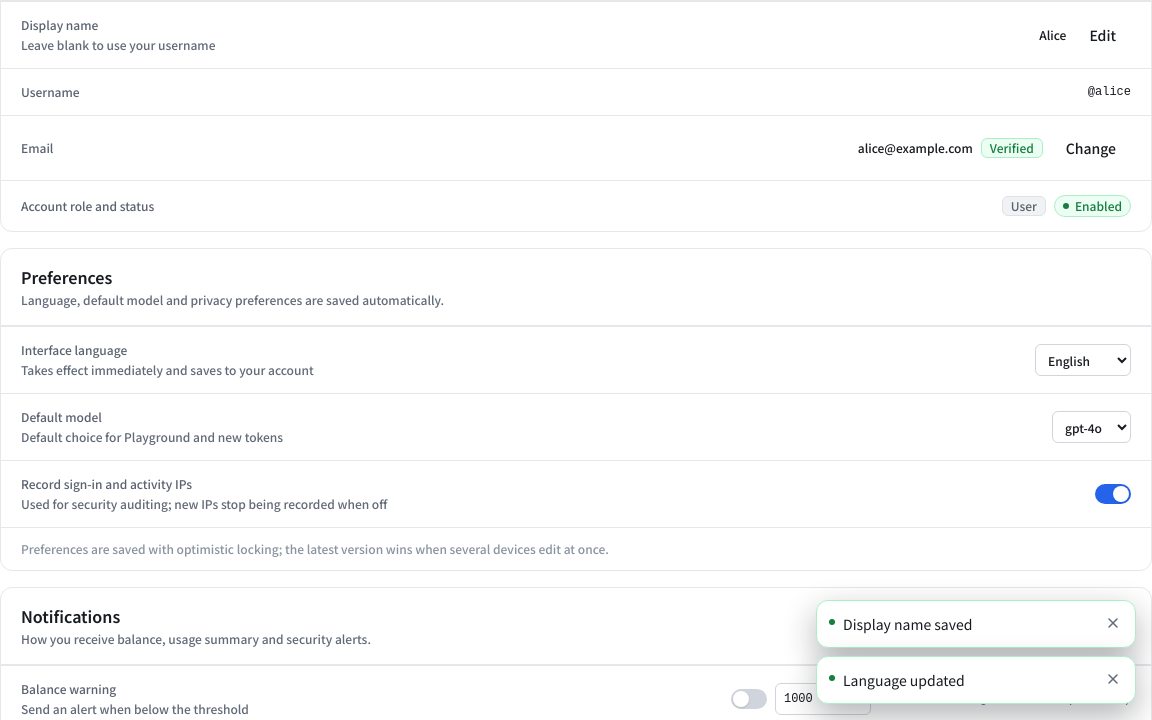
it: ProfilePage account center › keeps the chosen language when the save fails instead of rolling back
(page scrolled)
Select "日本語" in the dropdown named "Interface language" at x=1083, y=360, box [1035,344,1131,376]
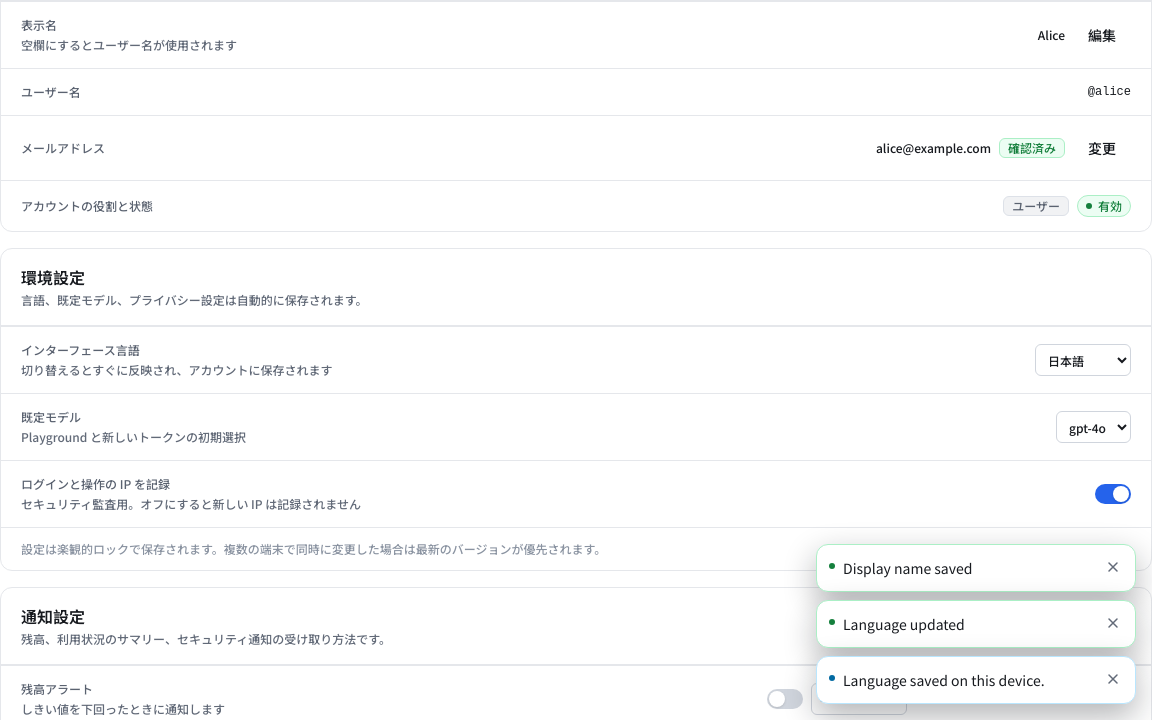
Expected: the element with test id "toast-viewport" shows "Language saved on this device", [843,670,1045,690]
